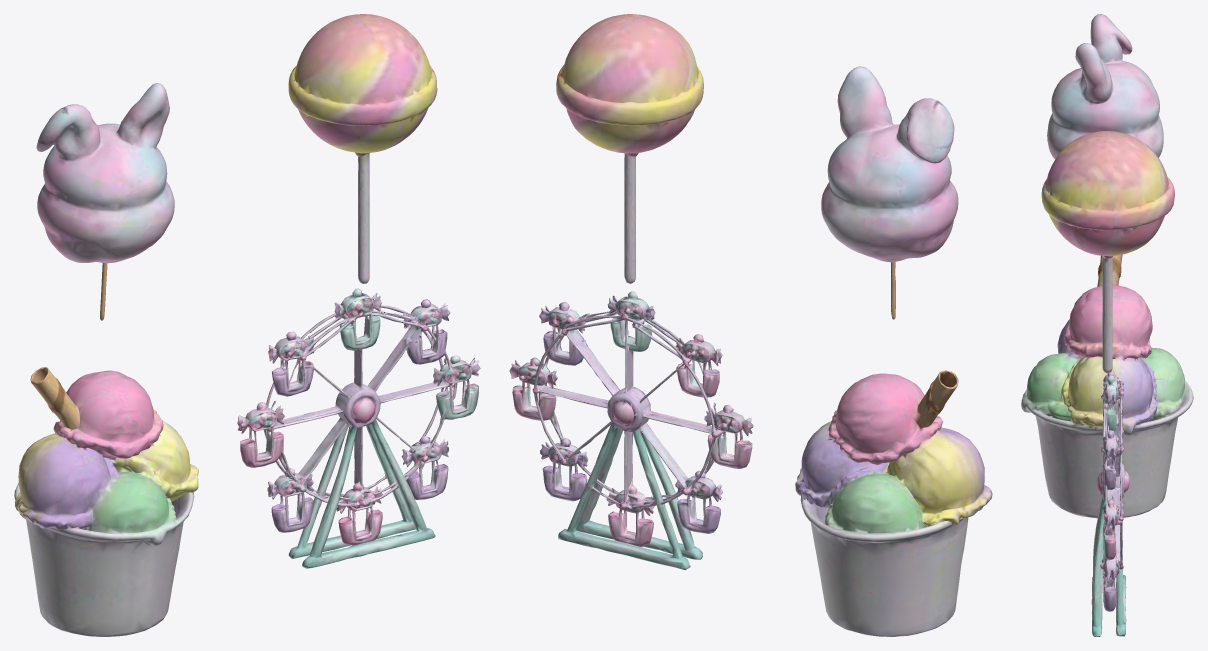
3 renders of one model, left to right at view 1: azimuth 30°, elevation 25°; view 2: azimuth 150°, elevation 25°; view 3: azimuth 270°, elevation 25°, orthographic. The views are drawn at different scales.
Parts seen in each view (by area): view 1: Mesh 1, Mesh 3, Mesh 2, Mesh 4; view 2: Mesh 1, Mesh 3, Mesh 2, Mesh 4; view 3: Mesh 1, Mesh 4, Mesh 2, Mesh 3.
Part boxes in pixels (x1,y1,x2,y2): Mesh 1: [14, 367, 198, 636]; Mesh 3: [237, 288, 480, 568]; Mesh 2: [36, 83, 174, 320]; Mesh 4: [288, 14, 437, 283]; Mesh 1: [795, 370, 992, 636]; Mesh 3: [509, 291, 753, 570]; Mesh 2: [821, 66, 958, 319]; Mesh 4: [556, 14, 703, 283]; Mesh 1: [1021, 254, 1193, 518]; Mesh 4: [1041, 131, 1174, 373]; Mesh 2: [1047, 14, 1163, 159]; Mesh 3: [1091, 370, 1129, 636].
Size of the model in its own units: 1.75 by 1.9 by 0.6293.
4 materials, 4 textured.
